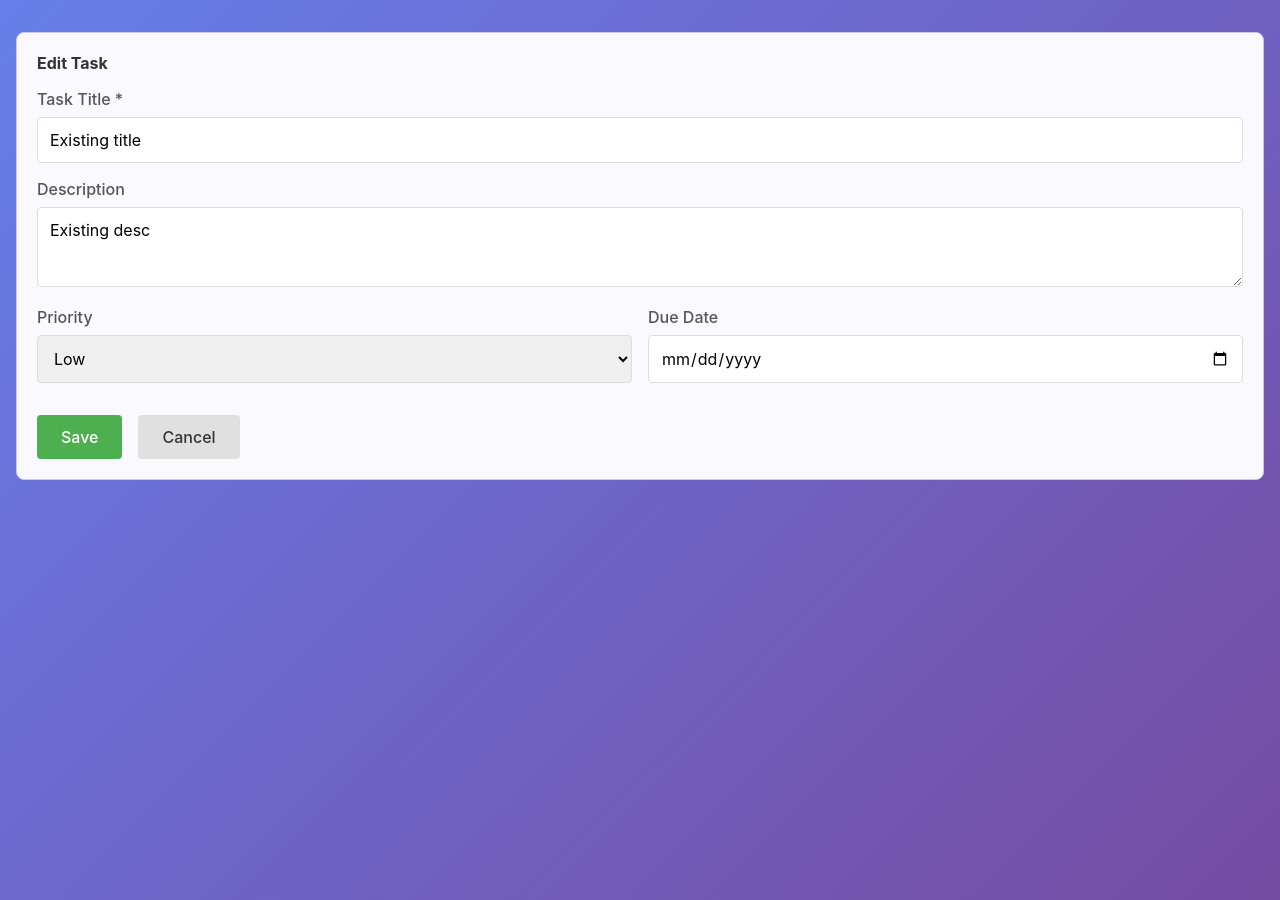
Test case: EditTodoForm shows past-date warning only after date field loses focus
The width and height of the screenshot is (1280, 900).
Type "2020-01-01" into the date field labelled "Due Date" at (946, 359), box left=648, top=335, right=1243, bottom=383
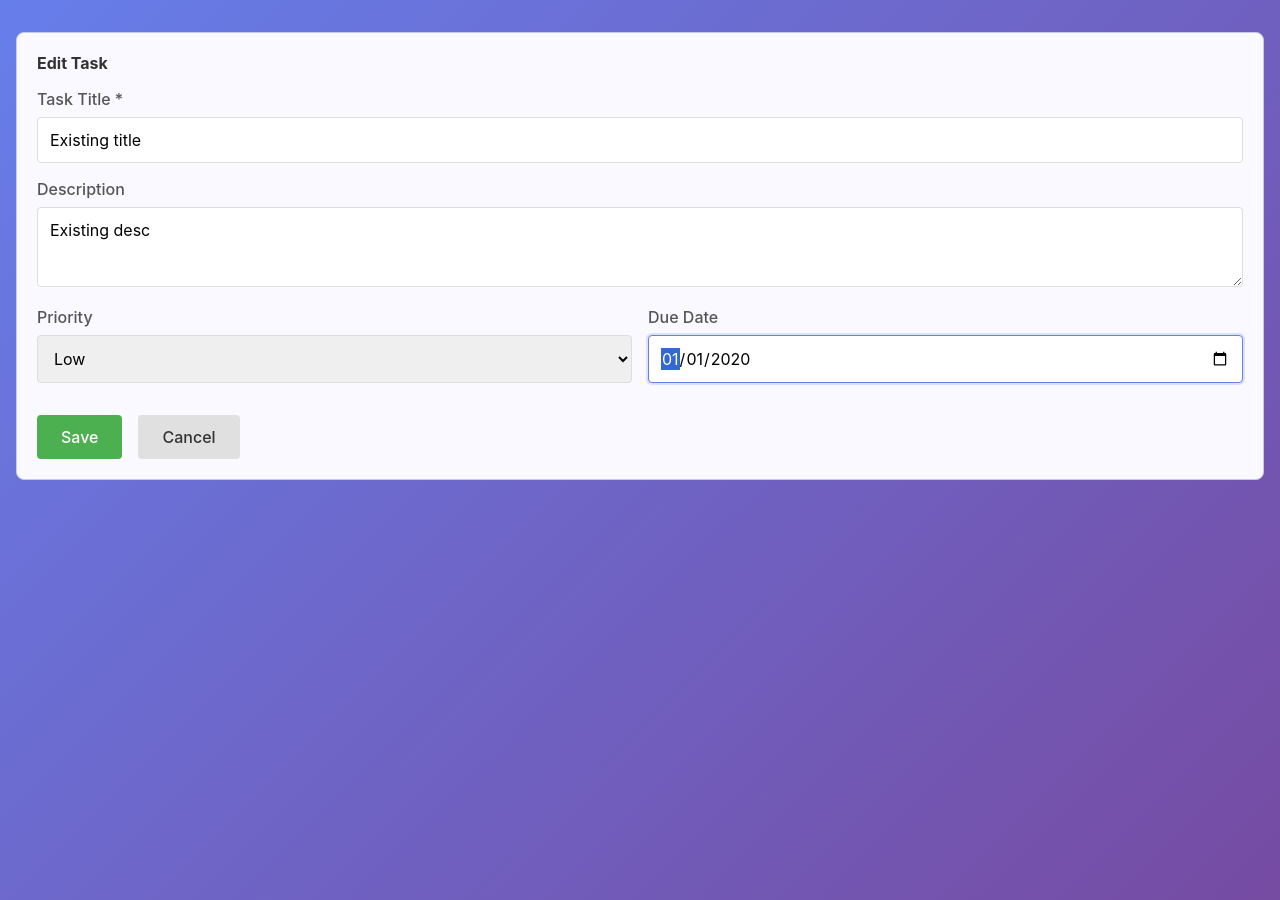
Expected: the text "due date is in the past" is not shown
Press Tab
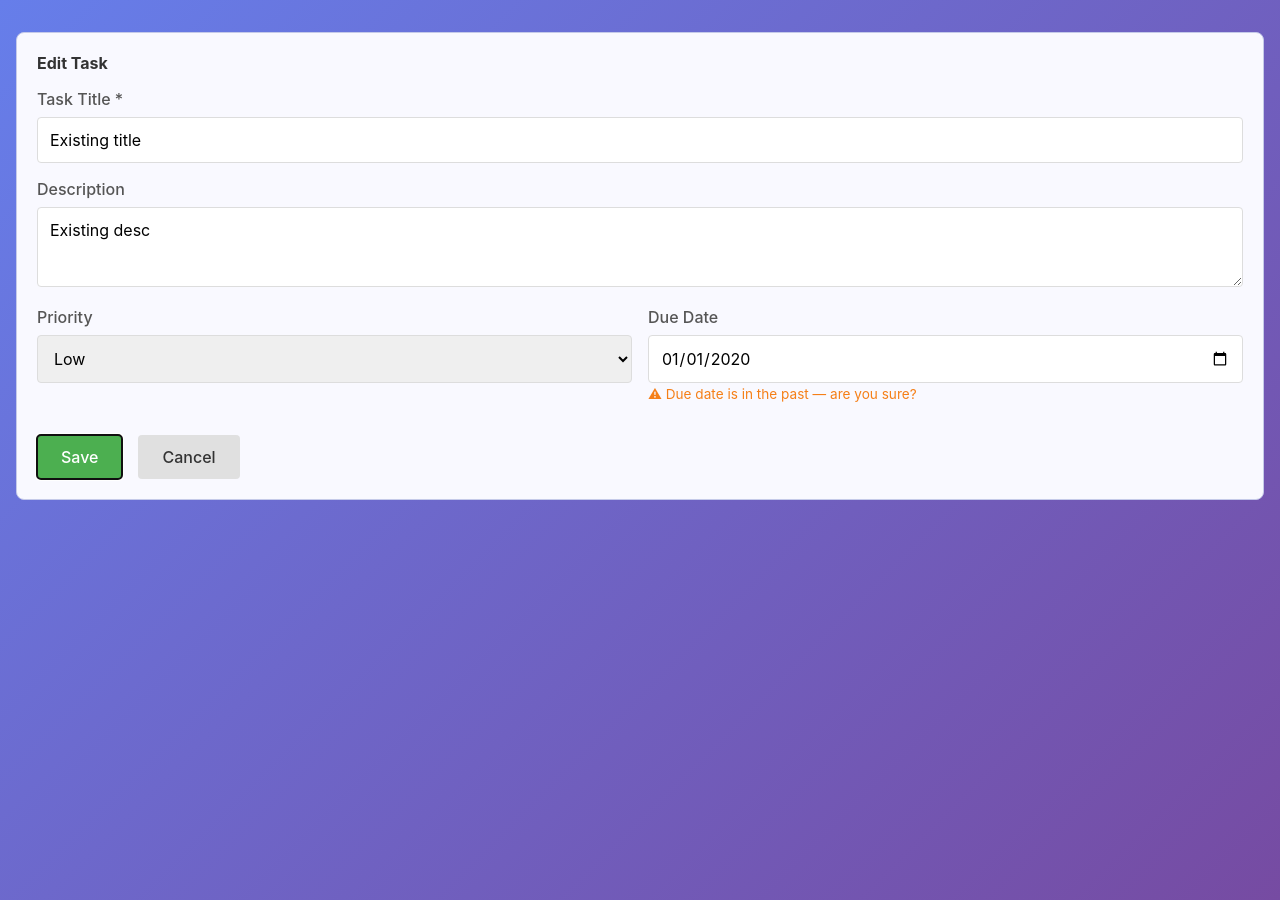
Expected: the text "⚠ Due date is in the past — are you sure?" is shown, left=648, top=386, right=917, bottom=402
